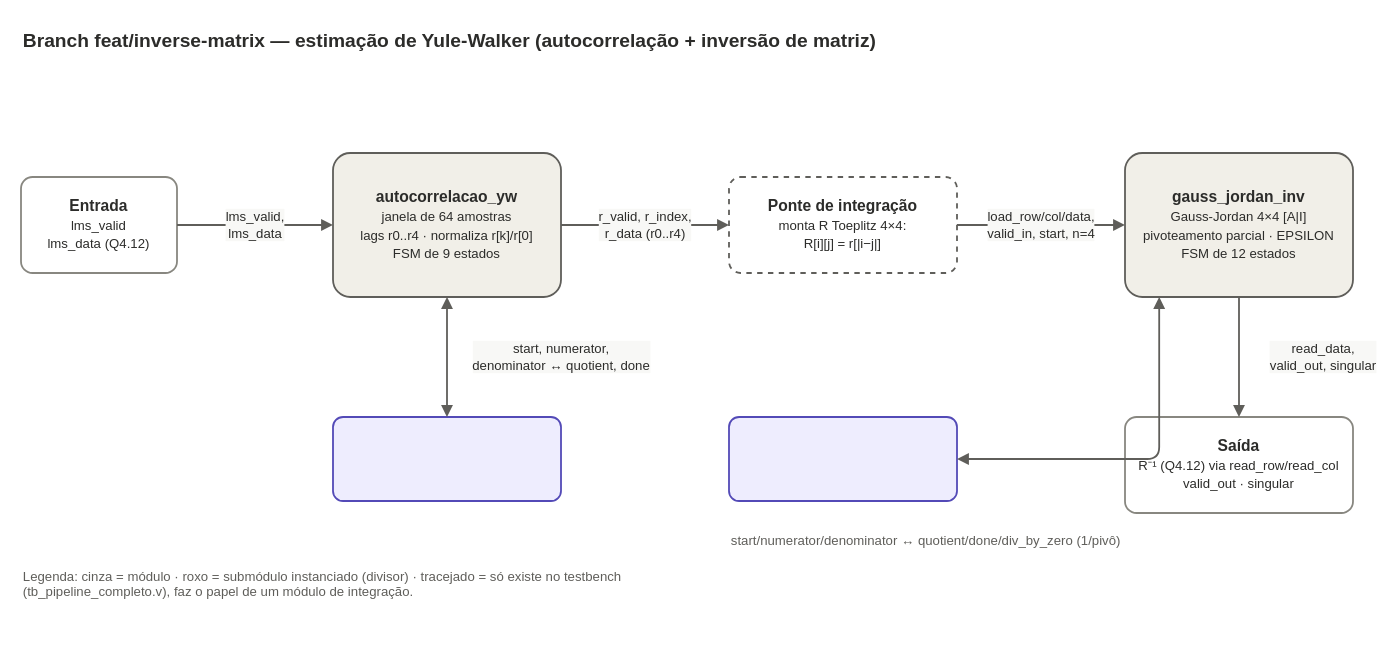
Image size: 1398x665. Some labels were removed from this diagram. Each missing label, with the centre of its shape:
"fixed_point_divider instância 1: WIDTH=48, FRAC=12" belongs at point 446,458.
"fixed_point_divider instância 2: WIDTH=16, FRAC=12" belongs at point 842,458.
